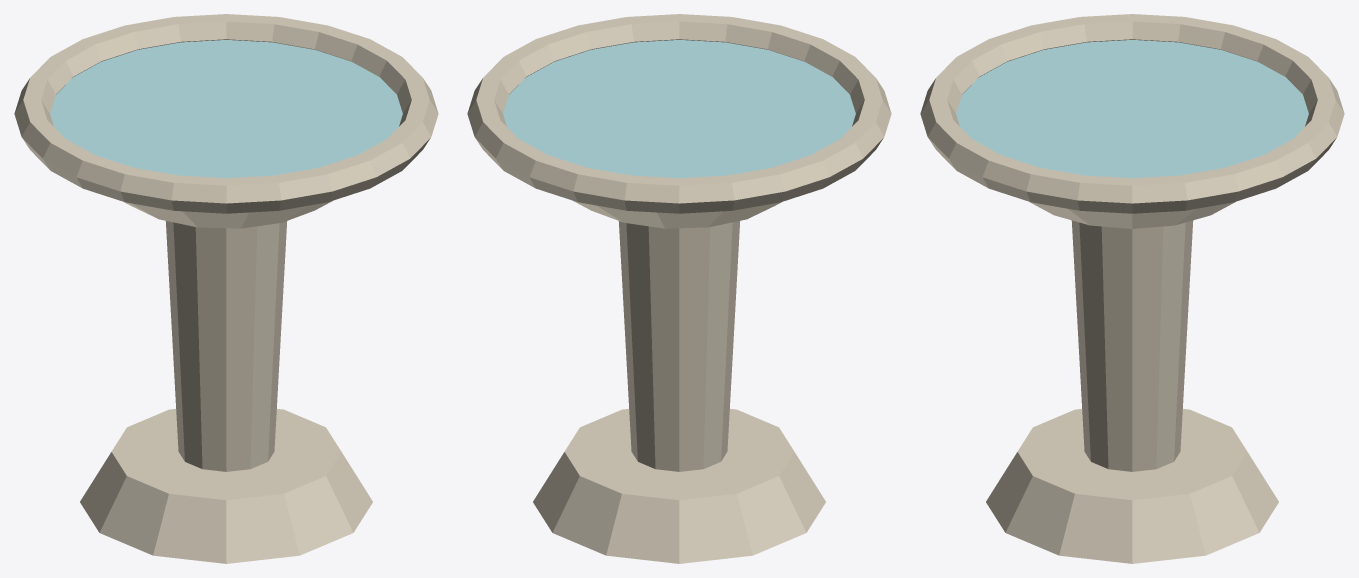
The model's file is birdbath.glb.
3 views of the same model, side by side, from view 1: azimuth 30°, elevation 25°; view 2: azimuth 150°, elevation 25°; view 3: azimuth 270°, elevation 25° (orthographic).
Parts seen in each view (by area): view 1: birdbath__Water, birdbath__Foot, birdbath__Lip, birdbath__Stem, birdbath__Bowl; view 2: birdbath__Water, birdbath__Foot, birdbath__Lip, birdbath__Stem, birdbath__Bowl; view 3: birdbath__Water, birdbath__Foot, birdbath__Lip, birdbath__Stem, birdbath__Bowl.
Part boxes in pixels (left/top/right/bottom): birdbath__Water: left=50, top=40, right=402, bottom=178; birdbath__Foot: left=80, top=409, right=372, bottom=563; birdbath__Lip: left=14, top=14, right=438, bottom=213; birdbath__Stem: left=165, top=221, right=287, bottom=471; birdbath__Bowl: left=124, top=201, right=332, bottom=228; birdbath__Water: left=503, top=40, right=855, bottom=178; birdbath__Foot: left=533, top=409, right=825, bottom=563; birdbath__Lip: left=467, top=14, right=891, bottom=213; birdbath__Stem: left=618, top=221, right=740, bottom=471; birdbath__Bowl: left=573, top=201, right=781, bottom=228; birdbath__Water: left=956, top=40, right=1308, bottom=178; birdbath__Foot: left=986, top=409, right=1278, bottom=563; birdbath__Lip: left=920, top=14, right=1344, bottom=213; birdbath__Stem: left=1071, top=220, right=1193, bottom=471; birdbath__Bowl: left=1029, top=201, right=1235, bottom=228.
Size of the model in its own units: 0.214 by 0.2238 by 0.214.
